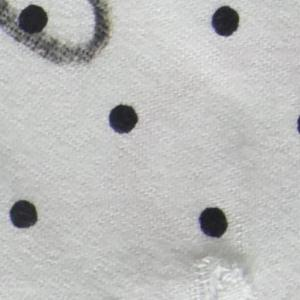Damage: (180, 251, 262, 300)
Stain: (1, 2, 113, 71)
